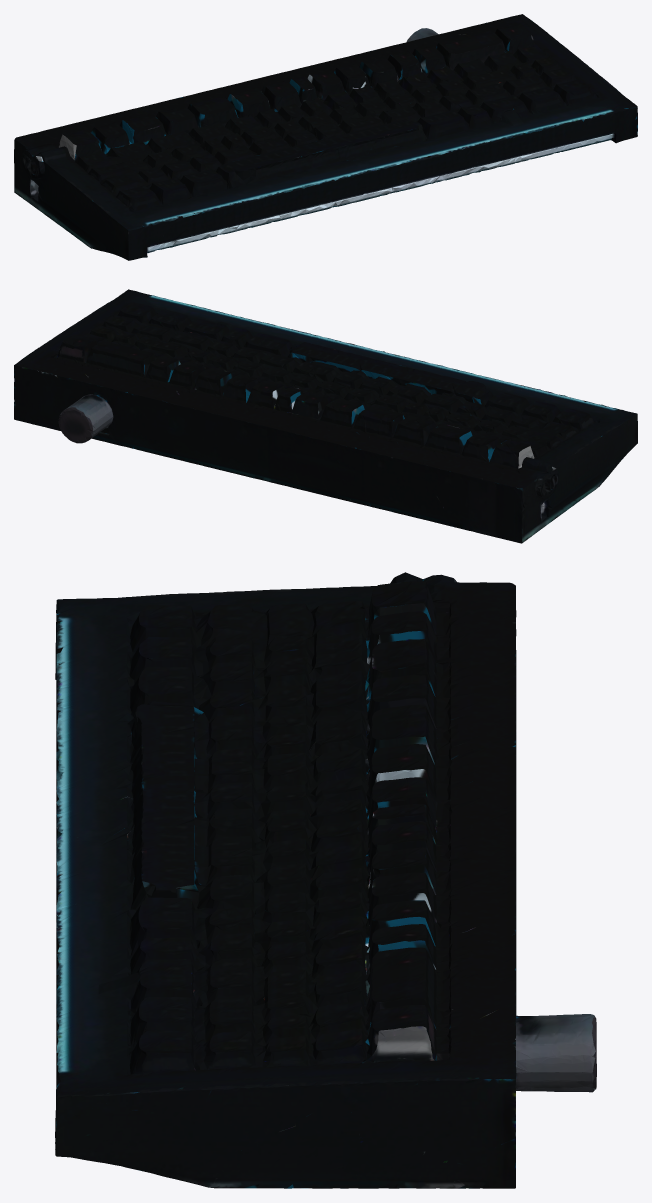
The model's file is hyzen.glb.
3 renders of one model, top to bottom at view 1: azimuth 30°, elevation 25°; view 2: azimuth 150°, elevation 25°; view 3: azimuth 270°, elevation 25°, orthographic. The views are drawn at different scales.
Visible parts, largest first — view 1: geometry_0; view 2: geometry_0; view 3: geometry_0.
Part boxes in pixels (x1,y1,x2,y2): geometry_0: (14, 14, 637, 260); geometry_0: (14, 289, 637, 543); geometry_0: (55, 572, 596, 1188).
Bounding box in the file's own units: 1.94 × 0.2545 × 0.8847.
1 material, 1 textured.
